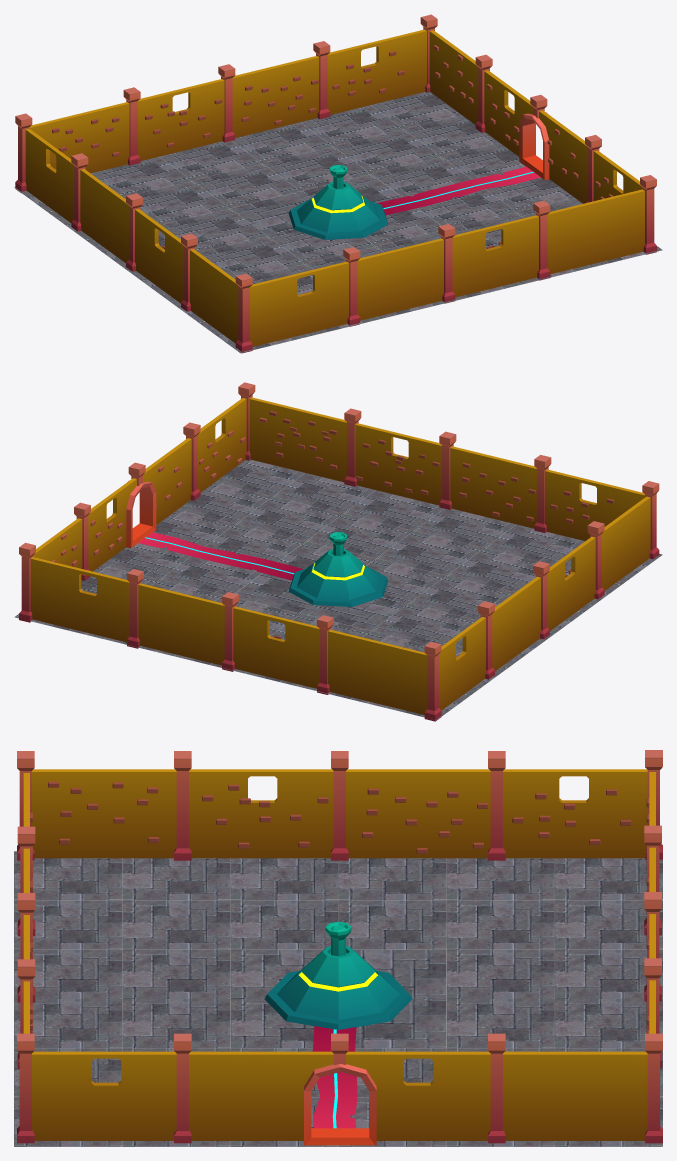
File: level1.glb
The picture shows the model from 3 angles, top to bottom: view 1: azimuth 30°, elevation 25°; view 2: azimuth 150°, elevation 25°; view 3: azimuth 270°, elevation 25°; orthographic projection. The views are drawn at different scales.
Parts seen in each view (by area): view 1: Level; view 2: Level; view 3: Level.
Part boxes in pixels (x1,y1,x2,y2): Level: (14,14,662,353); Level: (14,382,662,721); Level: (14,750,662,1146).
Size of what is drawn, in the model's own units: 78.3 by 12.89 by 72.67.
Materials: 2 (2 with a texture image).
